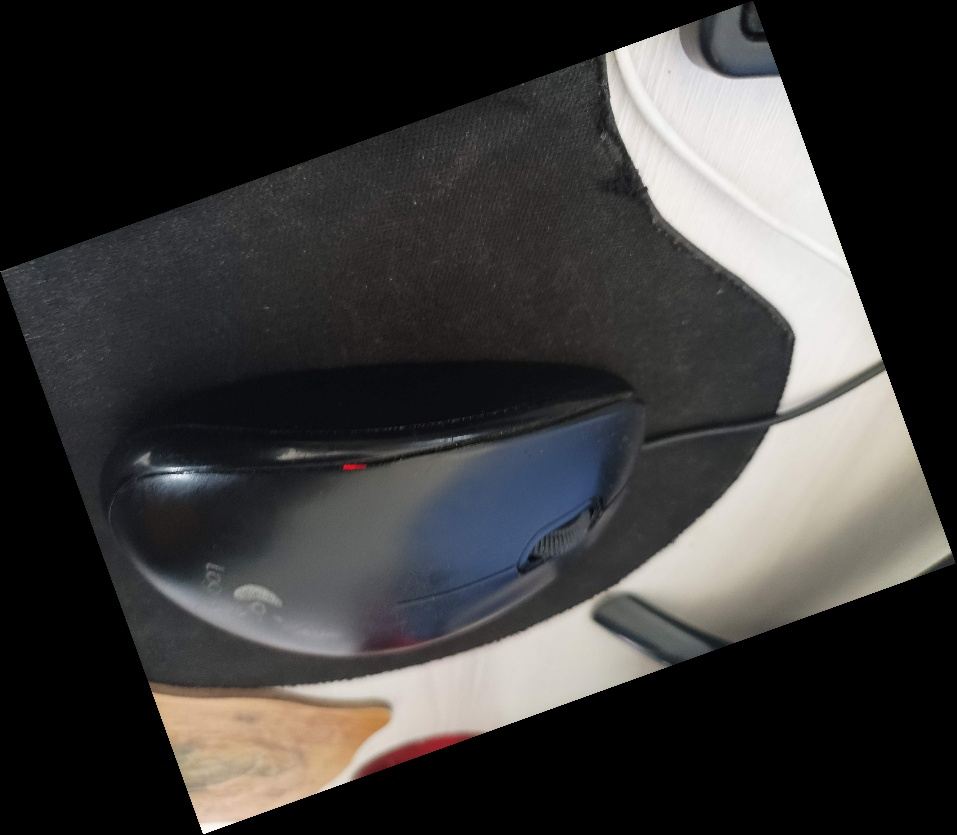mouse: (87, 355, 670, 669)
